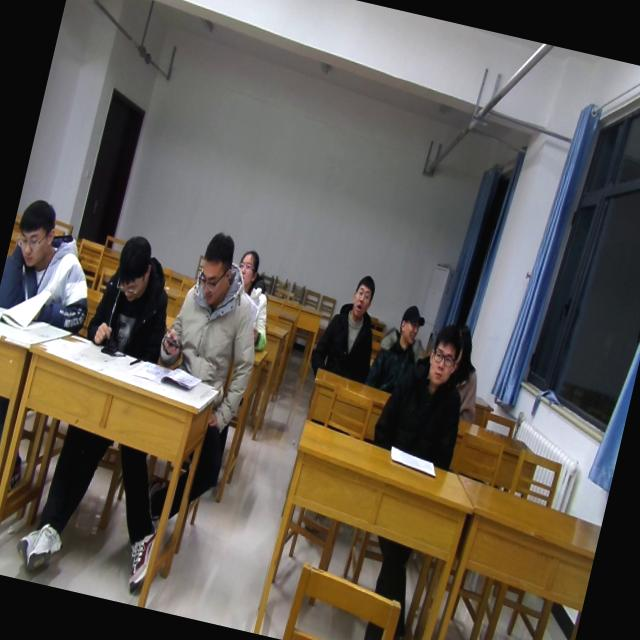bow: (0, 192, 111, 339)
down: (6, 192, 64, 276), (188, 224, 242, 310), (107, 222, 161, 306)
lookup: (418, 319, 467, 393), (446, 310, 484, 370), (344, 265, 380, 321), (229, 242, 264, 290)
sit: (154, 224, 279, 390), (368, 311, 482, 468), (81, 228, 186, 363), (306, 268, 389, 387), (218, 246, 288, 352), (364, 300, 434, 400), (436, 322, 495, 423)
